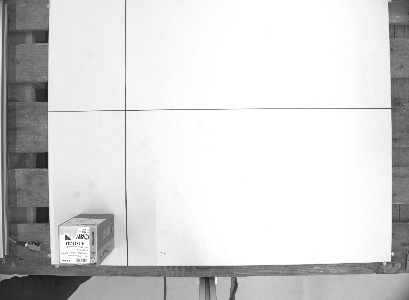b4: (56, 212, 116, 268)
